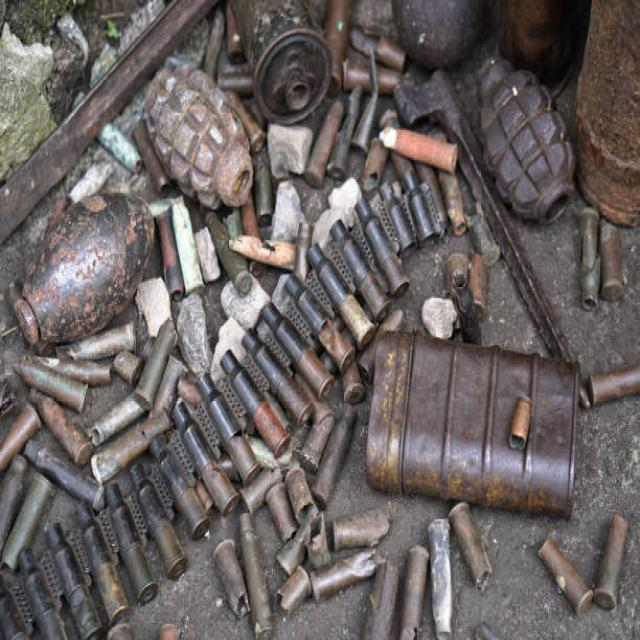grenade: (473, 53, 582, 228), (140, 66, 260, 212)
